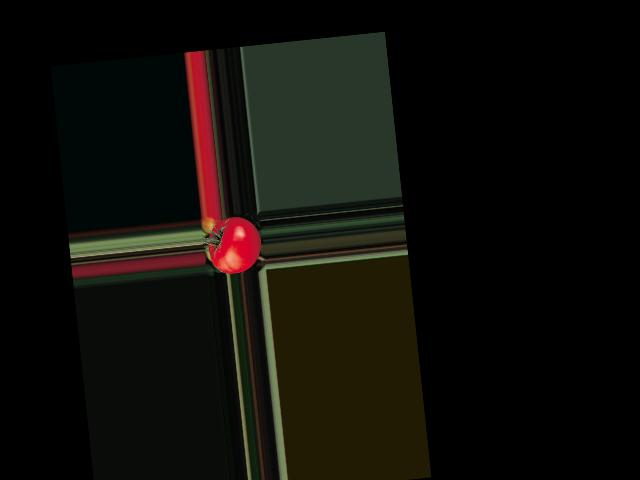tomato: (206, 215, 264, 275)
